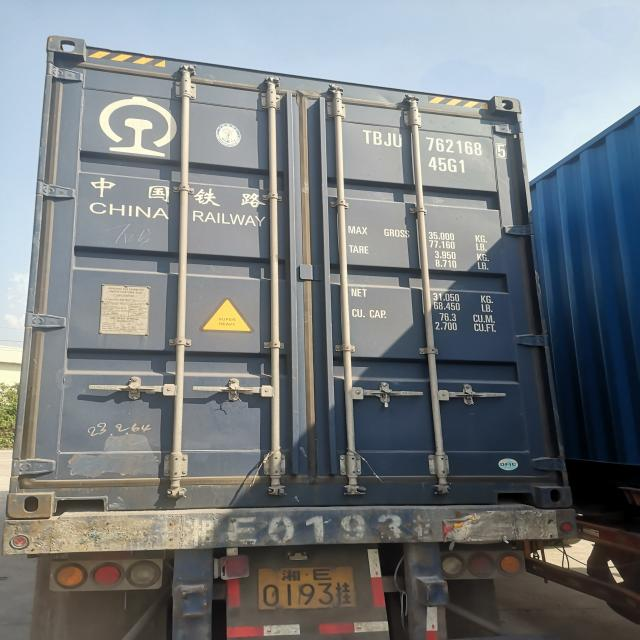seal: (381, 388, 391, 406)
